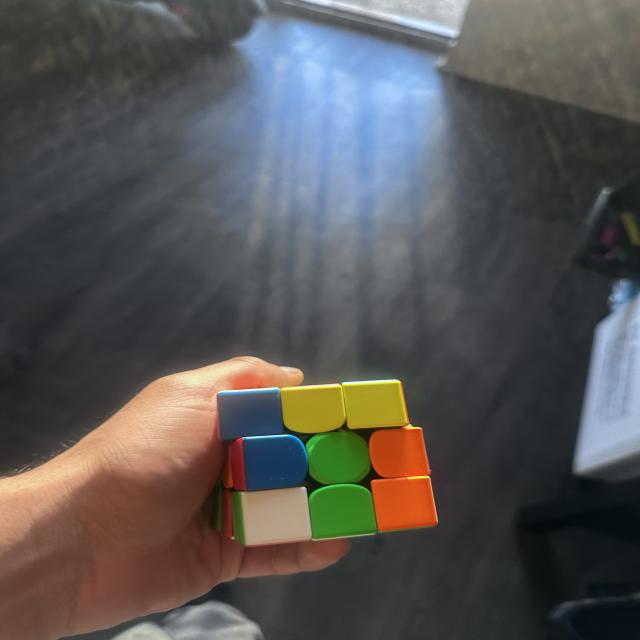sticker: (230, 485, 313, 547), (233, 434, 310, 494), (307, 482, 379, 541), (369, 474, 438, 534), (215, 386, 285, 442), (278, 382, 348, 436), (340, 378, 410, 432), (305, 430, 372, 486), (368, 425, 431, 480), (225, 438, 245, 490), (220, 485, 234, 538), (211, 481, 224, 533)
